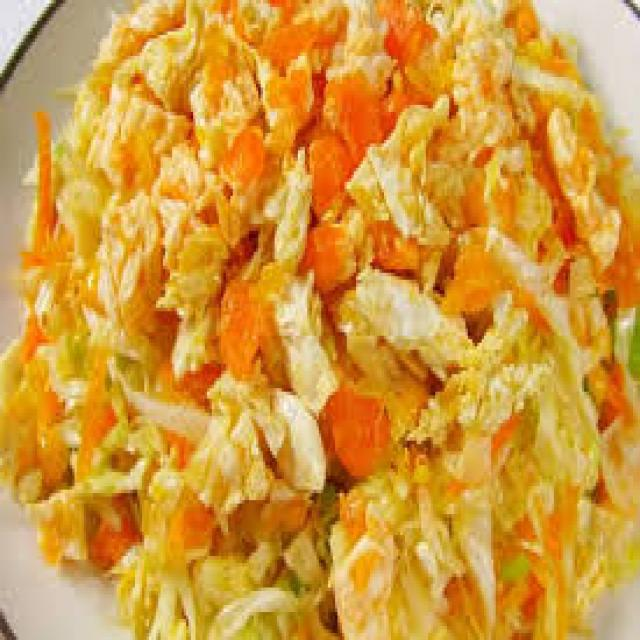telur_orak_arik: (16, 1, 629, 623)
wortel: (284, 66, 389, 205), (315, 373, 392, 470), (19, 102, 64, 248), (218, 259, 268, 365), (209, 120, 269, 192)
